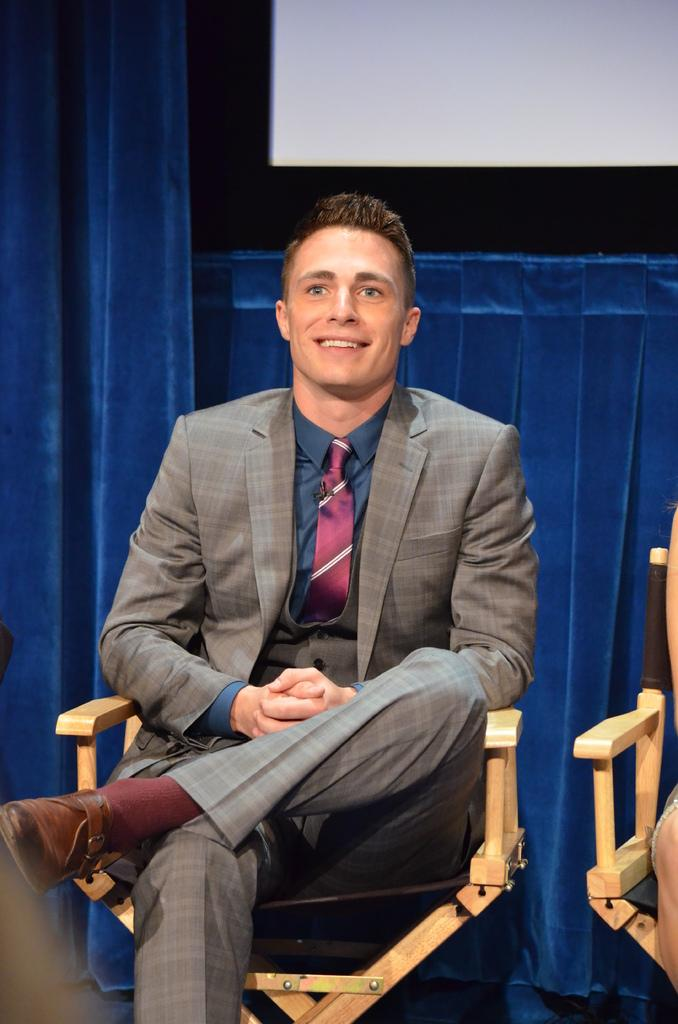Chair: (28, 646, 537, 1016), (578, 548, 677, 966)
